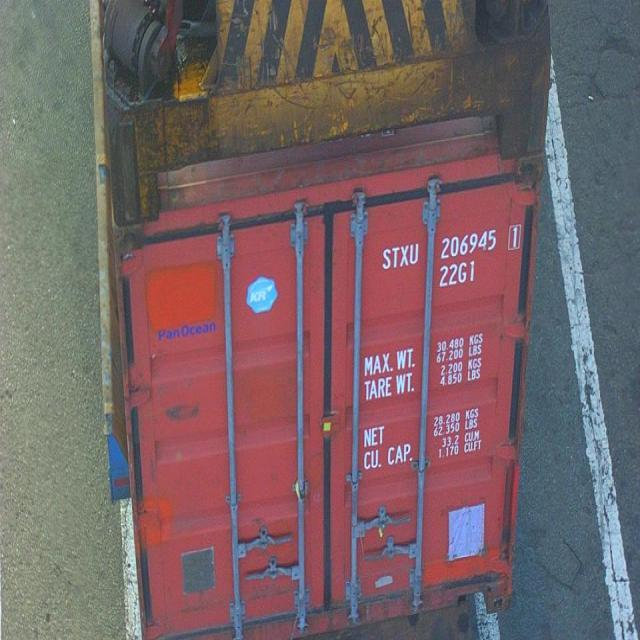ISO: (440, 262, 478, 284)
container_number: (381, 228, 522, 260)
